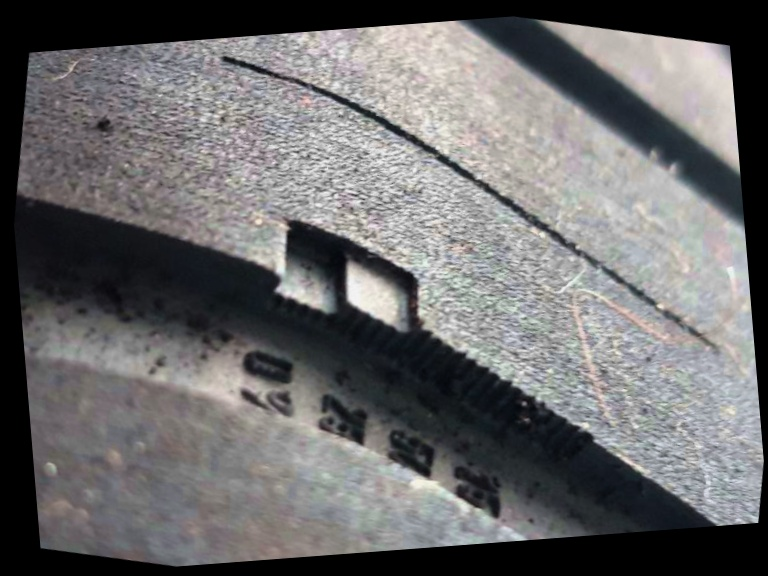temoin:25: (229, 188, 454, 412)
